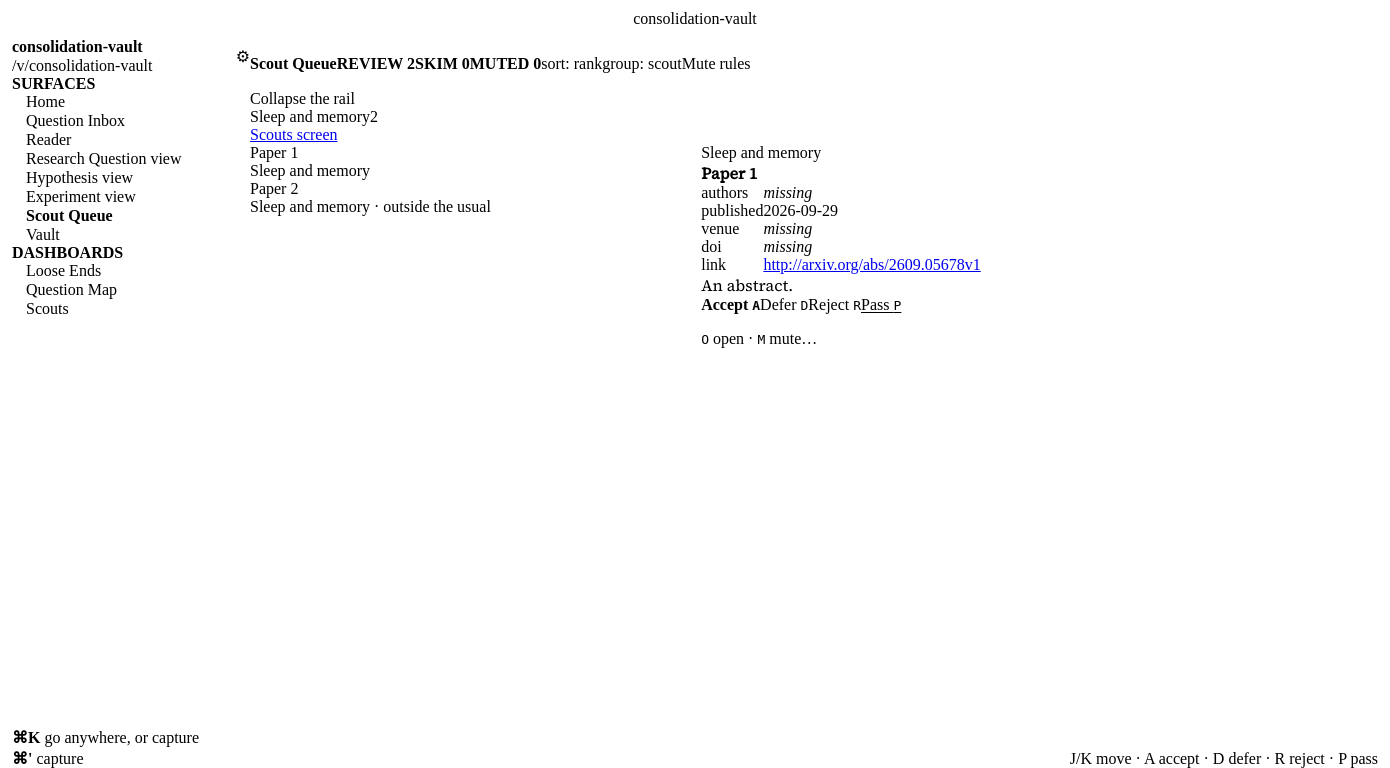
Test: the detail › labels the counterweight in its row and as a chip, and a lane move as a chip
Click the button "Paper 2 Sleep and memory · outside the usual" at (476, 198), box [250,180,701,216]
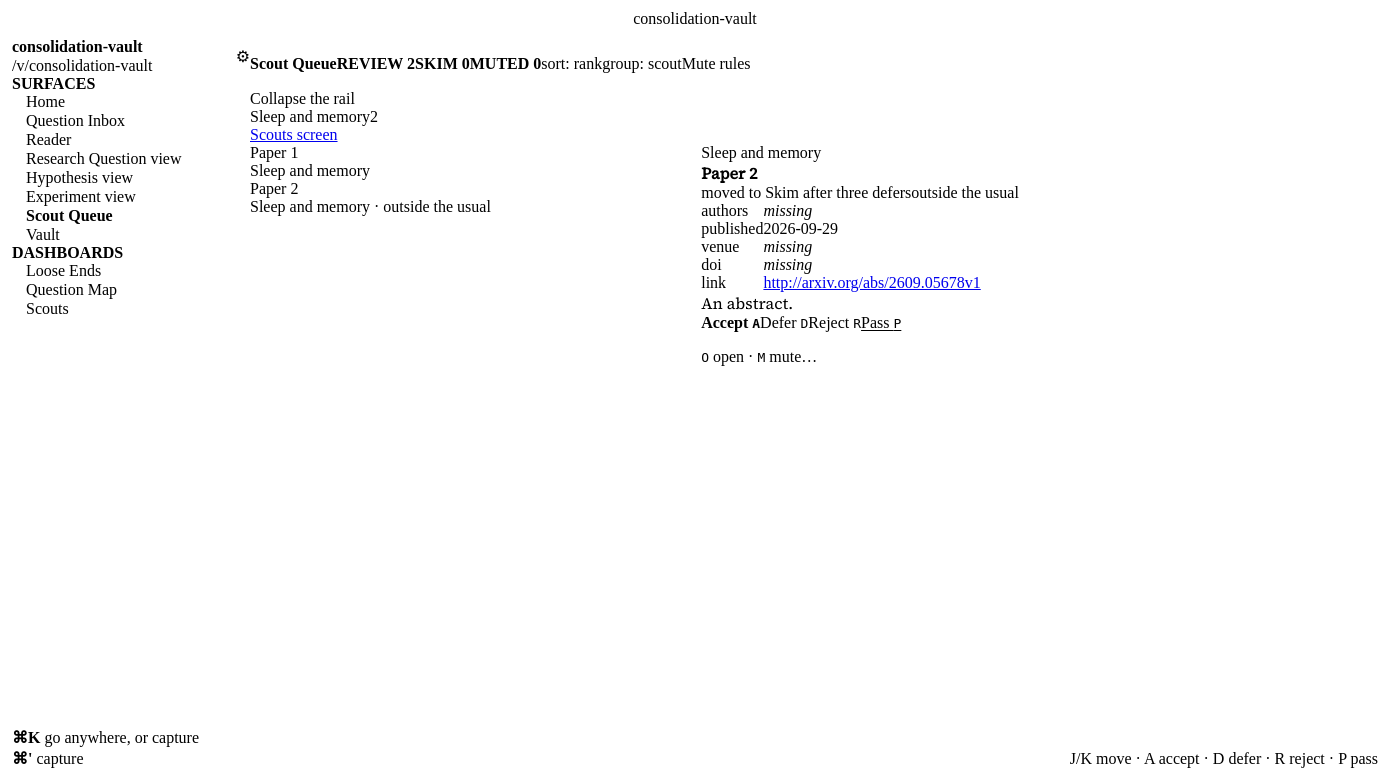
Expected: the text "Sleep and memory · outside the usual" is shown, [250,198,491,216]
Expected: the list item "moved to Skim after three defers" is shown, [701,184,911,202]
